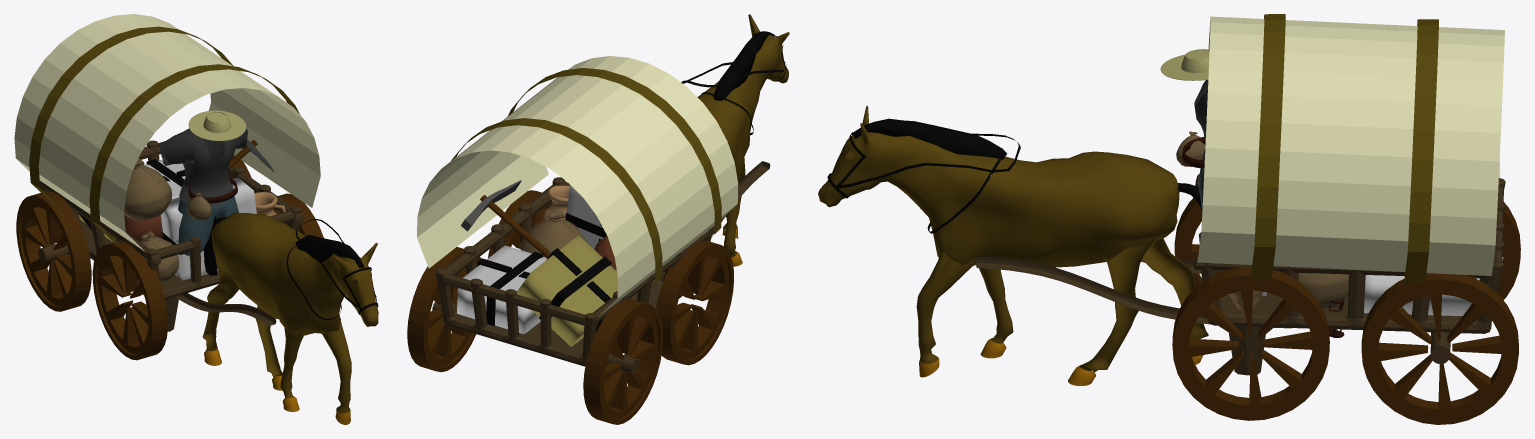
File: Settlers.dae
3 renders of one model, left to right at view 1: azimuth 30°, elevation 25°; view 2: azimuth 150°, elevation 25°; view 3: azimuth 270°, elevation 25°, orthographic. The views are drawn at different scales.
Parts seen in each view (by area): view 1: Cylinder, horse_body, Circle_004, wheel, Cube, jacket, Cylinder_002, Cylinder_003, Plane_009, Cube_004, hat, pants (+14 smaller); view 2: Cylinder, Cube, wheel, Circle_004, Circle_002, Cube_002, horse_body, Cube_001, Cylinder_002, Cylinder_003, bag, tail_001 (+13 smaller); view 3: Cylinder, horse_body, Circle_001, Circle_002, Cube, Cylinder_002, Cylinder_003, handle, left_rear_leg, tail_001, front_left_leg, rigth_rear_leg (+7 smaller).
Part boxes in pixels (x1,y1,x2,y2): Cylinder: [14, 14, 320, 250]; horse_body: [211, 212, 378, 336]; Circle_004: [92, 240, 167, 360]; wheel: [16, 191, 91, 311]; Cube: [39, 140, 304, 331]; jacket: [158, 128, 248, 205]; Cylinder_002: [89, 64, 299, 245]; Cylinder_003: [29, 26, 242, 208]; Plane_009: [124, 158, 171, 220]; Cube_004: [160, 177, 256, 280]; hat: [188, 110, 246, 140]; pants: [176, 196, 238, 255]; Cylinder: [417, 56, 738, 318]; Cube: [435, 177, 714, 366]; wheel: [583, 299, 663, 424]; Circle_004: [656, 240, 733, 365]; Circle_002: [407, 247, 481, 372]; Cube_002: [517, 235, 617, 346]; horse_body: [697, 14, 789, 180]; Cube_001: [457, 245, 546, 334]; Cylinder_002: [508, 68, 721, 252]; Cylinder_003: [451, 118, 662, 302]; bag: [520, 208, 589, 257]; tail_001: [713, 31, 774, 100]; Cylinder: [1197, 16, 1504, 275]; horse_body: [818, 105, 1179, 267]; Circle_001: [1172, 266, 1329, 420]; Circle_002: [1361, 273, 1518, 424]; Cube: [1194, 174, 1505, 375]; Cylinder_002: [1250, 14, 1285, 280]; Cylinder_003: [1403, 19, 1438, 285]; handle: [976, 256, 1291, 328]; left_rear_leg: [1079, 237, 1155, 372]; tail_001: [853, 118, 1006, 159]; front_left_leg: [916, 237, 976, 363]; rigth_rear_leg: [1142, 238, 1208, 338].
Size of the model in its own units: 1.62 by 3.53 by 1.92.
